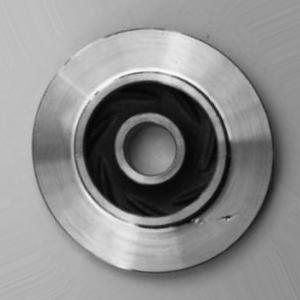defect: (170, 206, 252, 236)
